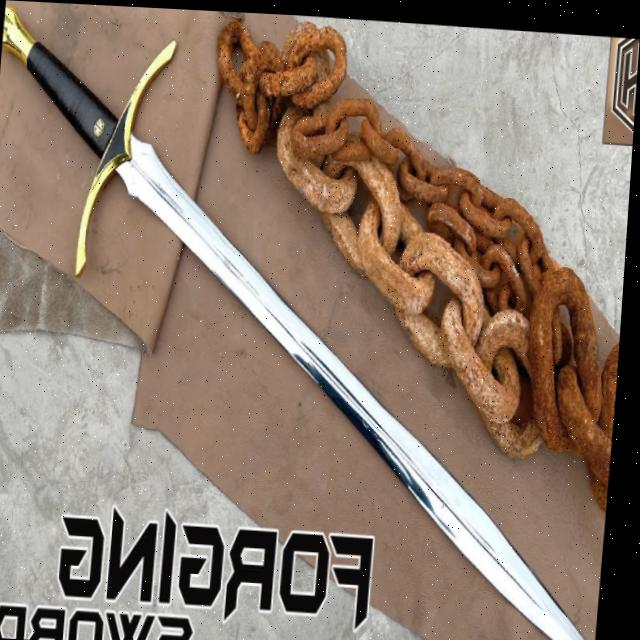knife: (0, 1, 640, 640)
